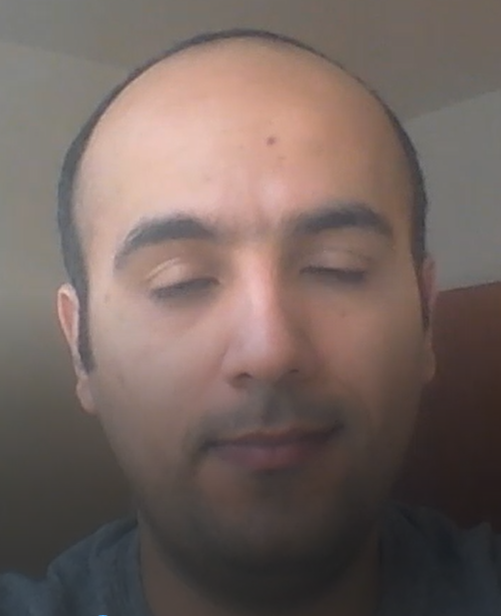Sleeping: (118, 205, 401, 317)
